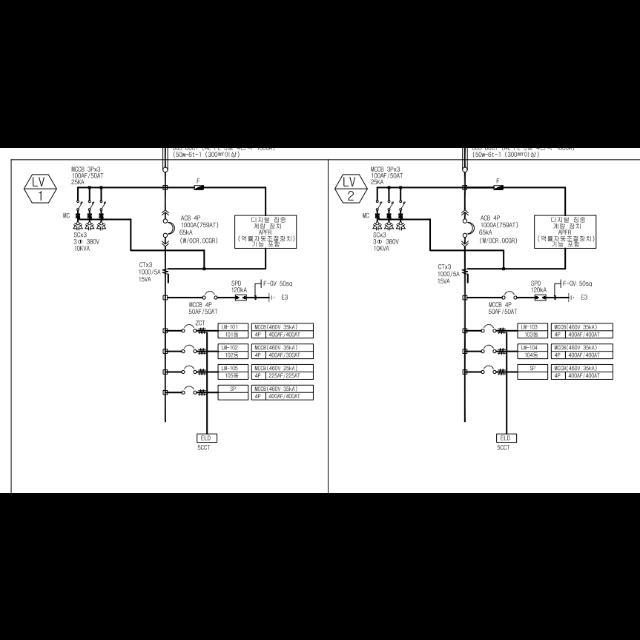ACB: (163, 218, 175, 238), (462, 218, 474, 236)
CT: (162, 266, 170, 274), (461, 266, 469, 274)
GND: (268, 292, 274, 302), (568, 292, 574, 302)
LA: (535, 294, 547, 300), (236, 294, 247, 300)
MCCB: (182, 364, 196, 374), (502, 290, 516, 300), (482, 364, 496, 374), (202, 291, 218, 299), (182, 323, 196, 332), (482, 323, 496, 332), (482, 343, 496, 352), (182, 345, 196, 353), (182, 386, 196, 394)
PF2: (494, 183, 504, 189), (194, 184, 203, 190)
SC: (372, 220, 382, 230), (384, 220, 394, 230), (396, 221, 406, 231), (96, 220, 105, 230), (86, 220, 94, 230), (74, 222, 82, 230)
ZCT: (198, 346, 206, 354), (198, 388, 206, 396), (497, 326, 505, 334), (198, 327, 206, 333), (198, 368, 206, 374), (497, 368, 505, 374), (498, 348, 504, 354)
